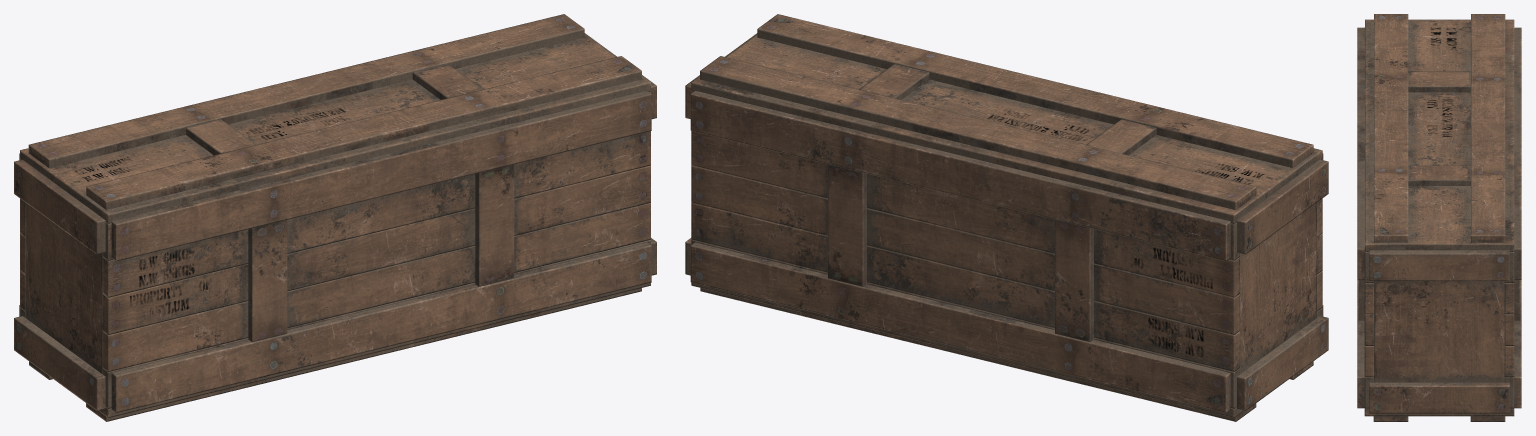
3 views of the same model, side by side, from view 1: azimuth 30°, elevation 25°; view 2: azimuth 150°, elevation 25°; view 3: azimuth 270°, elevation 25° (orthographic). The views are drawn at different scales.
Parts seen in each view (by area): view 1: SM_Box01_1_LOD0; view 2: SM_Box01_1_LOD0; view 3: SM_Box01_1_LOD0.
Part boxes in pixels (x1,y1,x2,y2): SM_Box01_1_LOD0: (14, 14, 656, 421); SM_Box01_1_LOD0: (685, 14, 1328, 421); SM_Box01_1_LOD0: (1357, 14, 1521, 421).
Bounding box in the file's own units: 2.06 × 0.7759 × 0.6187.
1 material, 1 textured.
